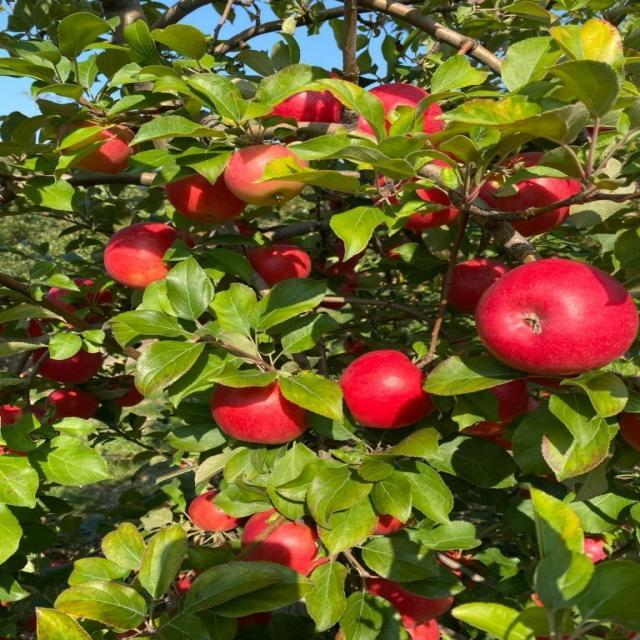Red Apple: (489, 269, 637, 364), (338, 353, 438, 423), (215, 382, 309, 442), (455, 379, 526, 441), (494, 160, 572, 216), (105, 230, 190, 281), (241, 507, 320, 559), (381, 175, 459, 227), (65, 121, 139, 173), (365, 93, 443, 139), (230, 148, 298, 199), (166, 172, 235, 222), (445, 259, 513, 309), (274, 79, 339, 130), (371, 574, 444, 617), (54, 282, 108, 324), (38, 345, 99, 382), (319, 246, 361, 298), (255, 246, 313, 282), (189, 496, 243, 532), (1, 402, 38, 449), (436, 551, 476, 593), (46, 391, 96, 422), (113, 379, 150, 413), (29, 310, 65, 341), (618, 405, 640, 452), (396, 619, 439, 640), (373, 512, 405, 532), (175, 575, 198, 600), (583, 538, 609, 559)
